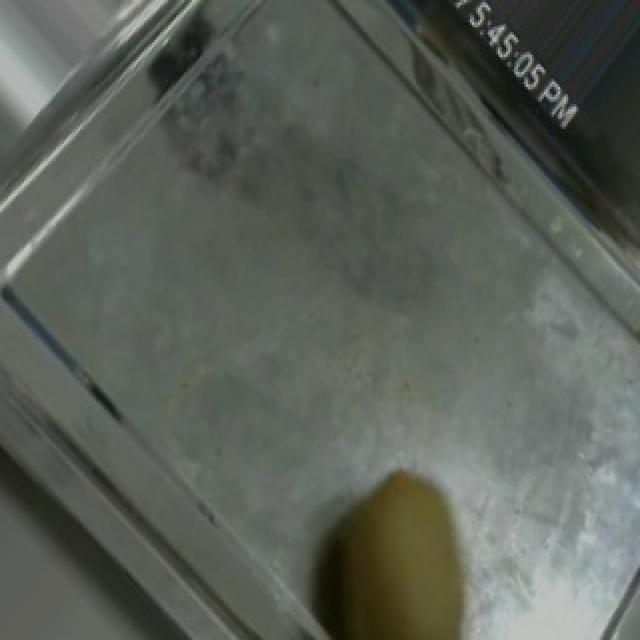Fruit: (280, 446, 514, 640)
